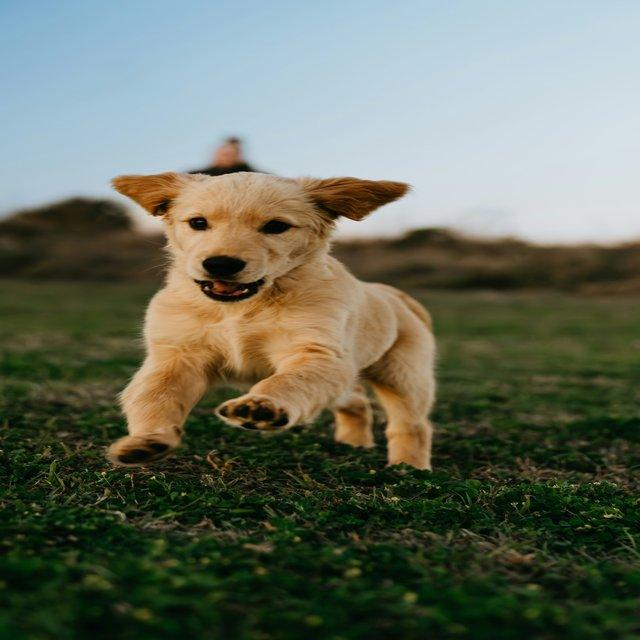retriever: (105, 168, 438, 473)
